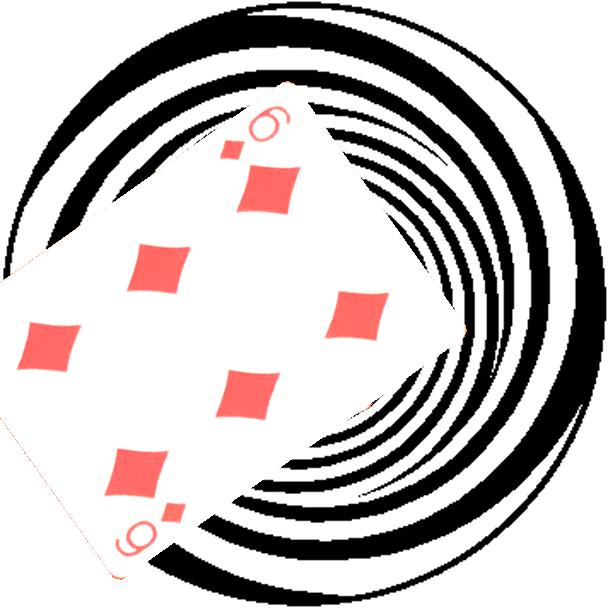d06: (110, 498, 190, 562), (215, 102, 294, 165)
